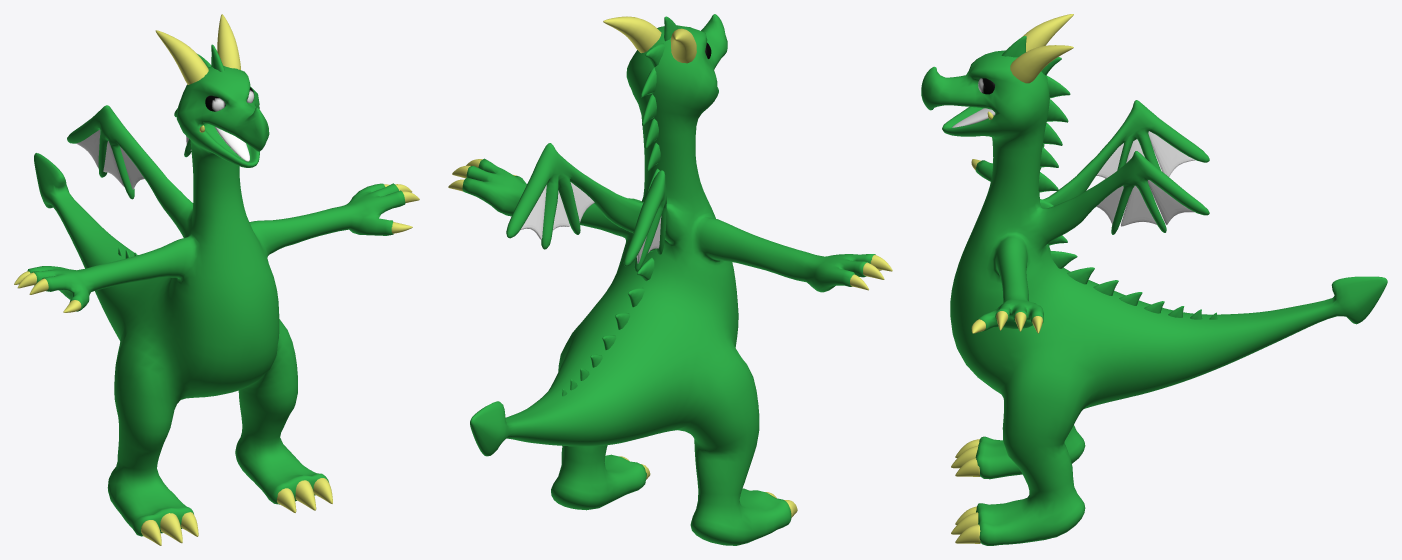
Rendered from Drac_uvs.fbx.
3 views of the same model, side by side, from view 1: azimuth 30°, elevation 25°; view 2: azimuth 150°, elevation 25°; view 3: azimuth 270°, elevation 25° (orthographic). The views are drawn at different scales.
Visible parts, largest first — view 1: Body, Claws, Horns, Wings; view 2: Body, Spikes, Horns, Wings, Claws; view 3: Body, Spikes, Wings, Claws, Horns.
Part boxes in pixels (x1,y1,x2,y2): Body: [27, 66, 405, 536]; Claws: [14, 125, 419, 545]; Horns: [155, 14, 240, 84]; Wings: [76, 129, 191, 189]; Body: [462, 14, 875, 545]; Spikes: [562, 16, 678, 396]; Horns: [603, 16, 696, 63]; Wings: [520, 182, 661, 263]; Claws: [448, 159, 892, 517]; Body: [921, 50, 1387, 545]; Spikes: [1001, 36, 1217, 319]; Wings: [1096, 131, 1195, 226]; Claws: [951, 111, 1042, 543]; Horns: [1010, 14, 1073, 83].
Size of the model in its own units: 376 by 422 by 377.
